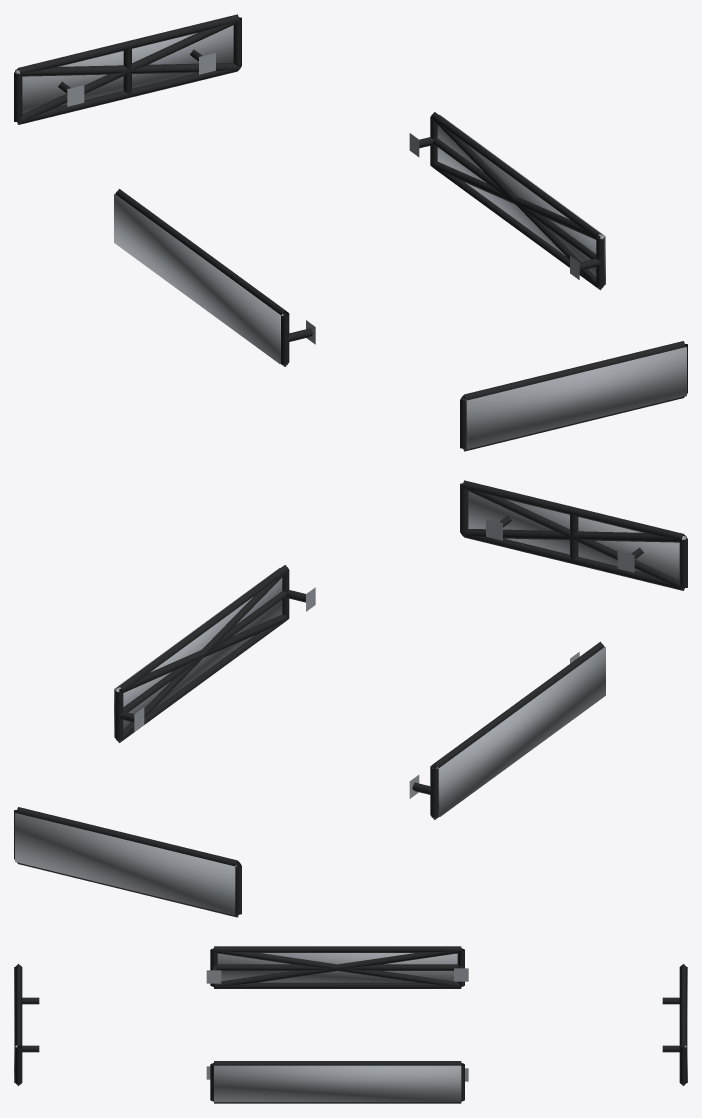
File: volnar_nimbus_protecao.glb
3 renders of one model, top to bottom at view 1: azimuth 30°, elevation 25°; view 2: azimuth 150°, elevation 25°; view 3: azimuth 270°, elevation 25°, orthographic. The views are drawn at different scales.
Visible parts, largest first — view 1: Protection_front_Level3_Details, Protection_left_Level3_Details, Protection_rear_Level1_Details, Protection_rear_Level3_Details, Protection_right_Level1_Details, Protection_right_Level2_Details, Protection_rear_Level2_Details, Protection_right_Level3_Details, Protection_front_Level1_Details, Protection_left_Level1_Details; view 2: Protection_rear_Level3_Details, Protection_left_Level3_Details, Protection_front_Level1_Details, Protection_front_Level3_Details, Protection_right_Level1_Details, Protection_right_Level2_Details, Protection_front_Level2_Details, Protection_right_Level3_Details, Protection_rear_Level1_Details, Protection_left_Level1_Details; view 3: Protection_right_Level3_Details, Protection_left_Level2_Details, Protection_left_Level1_Details, Protection_left_Level3_Details, Protection_right_Level1_Details, Protection_rear_Level1_Details, Protection_front_Level1_Details.
Boxes of the visible parts, x1=… form: Protection_front_Level3_Details: x1=465, y1=347, x2=686, y2=449; Protection_left_Level3_Details: x1=114, y1=194, x2=283, y2=363; Protection_rear_Level1_Details: x1=14, y1=14, x2=241, y2=124; Protection_rear_Level3_Details: x1=15, y1=25, x2=233, y2=113; Protection_right_Level1_Details: x1=409, y1=112, x2=604, y2=290; Protection_right_Level2_Details: x1=431, y1=118, x2=603, y2=289; Protection_rear_Level2_Details: x1=16, y1=20, x2=239, y2=123; Protection_right_Level3_Details: x1=437, y1=115, x2=605, y2=284; Protection_front_Level1_Details: x1=460, y1=341, x2=687, y2=451; Protection_left_Level1_Details: x1=115, y1=189, x2=315, y2=366; Protection_rear_Level3_Details: x1=15, y1=813, x2=236, y2=915; Protection_left_Level3_Details: x1=436, y1=647, x2=605, y2=816; Protection_front_Level1_Details: x1=460, y1=480, x2=687, y2=590; Protection_front_Level3_Details: x1=468, y1=491, x2=686, y2=579; Protection_right_Level1_Details: x1=115, y1=565, x2=315, y2=742; Protection_right_Level2_Details: x1=116, y1=570, x2=288, y2=742; Protection_front_Level2_Details: x1=462, y1=486, x2=685, y2=589; Protection_right_Level3_Details: x1=114, y1=568, x2=282, y2=737; Protection_rear_Level1_Details: x1=14, y1=807, x2=241, y2=917; Protection_left_Level1_Details: x1=409, y1=641, x2=604, y2=819; Protection_right_Level3_Details: x1=214, y1=1065, x2=461, y2=1102; Protection_left_Level2_Details: x1=213, y1=949, x2=461, y2=987; Protection_left_Level1_Details: x1=206, y1=946, x2=468, y2=988; Protection_left_Level3_Details: x1=217, y1=953, x2=457, y2=982; Protection_right_Level1_Details: x1=206, y1=1061, x2=468, y2=1103; Protection_rear_Level1_Details: x1=662, y1=964, x2=686, y2=1085; Protection_front_Level1_Details: x1=15, y1=964, x2=39, y2=1085.
Size of the model in its own units: 2.11 by 0.354 by 5.07.
1 material, 1 textured.
